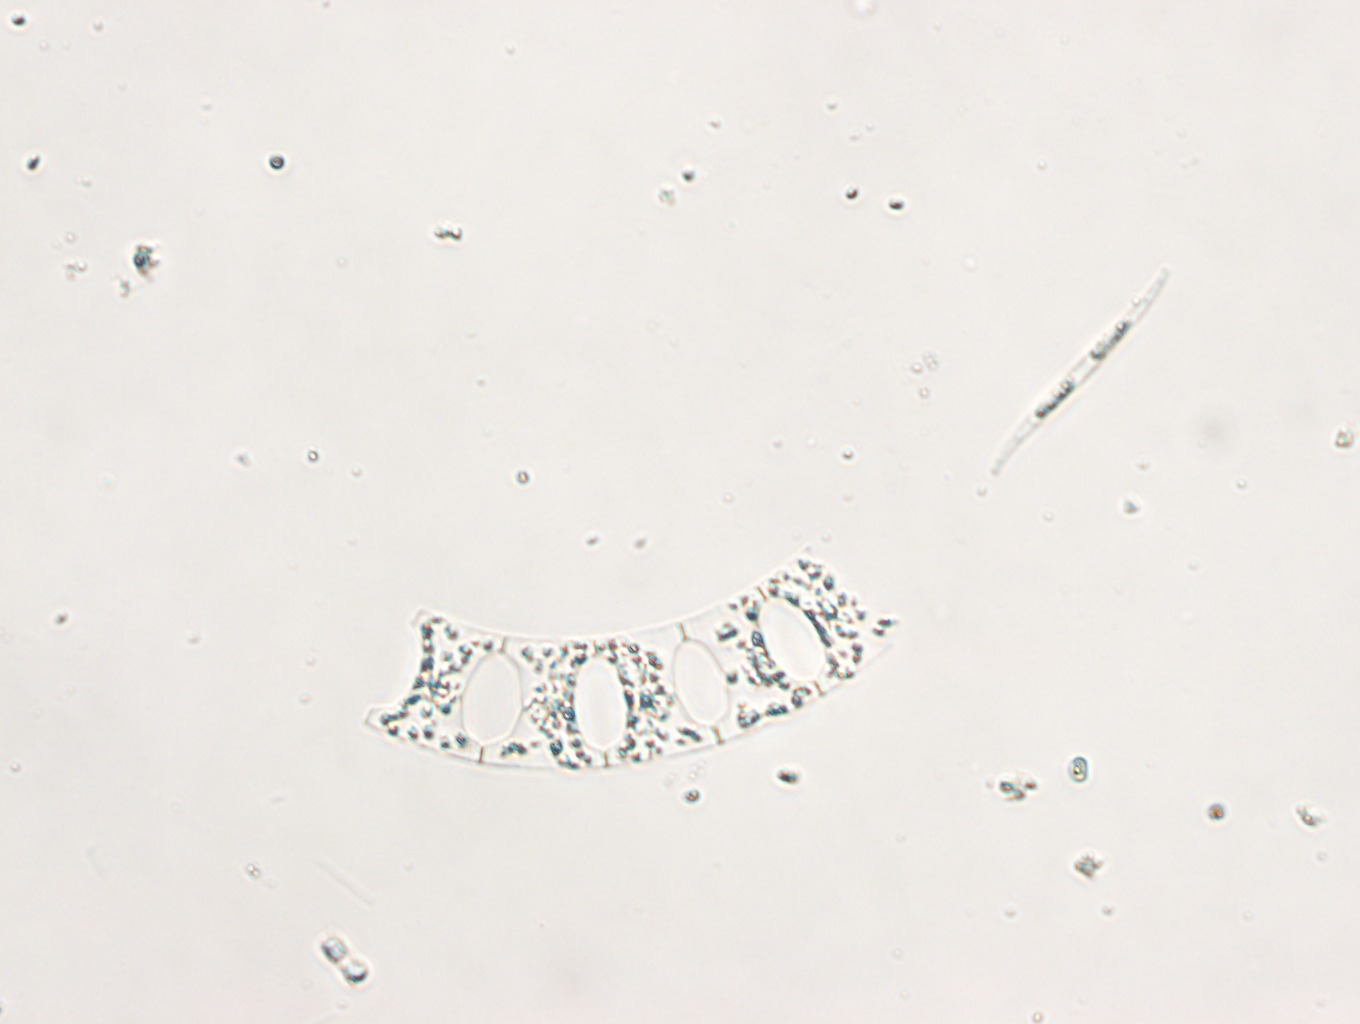eucampia: (359, 550, 907, 773)
pleurosigma pelagicum: (986, 264, 1172, 480)
